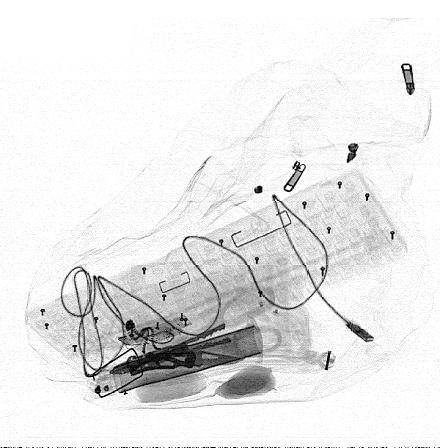Knife: (125, 351, 247, 377)
Scissors: (110, 284, 284, 375)
